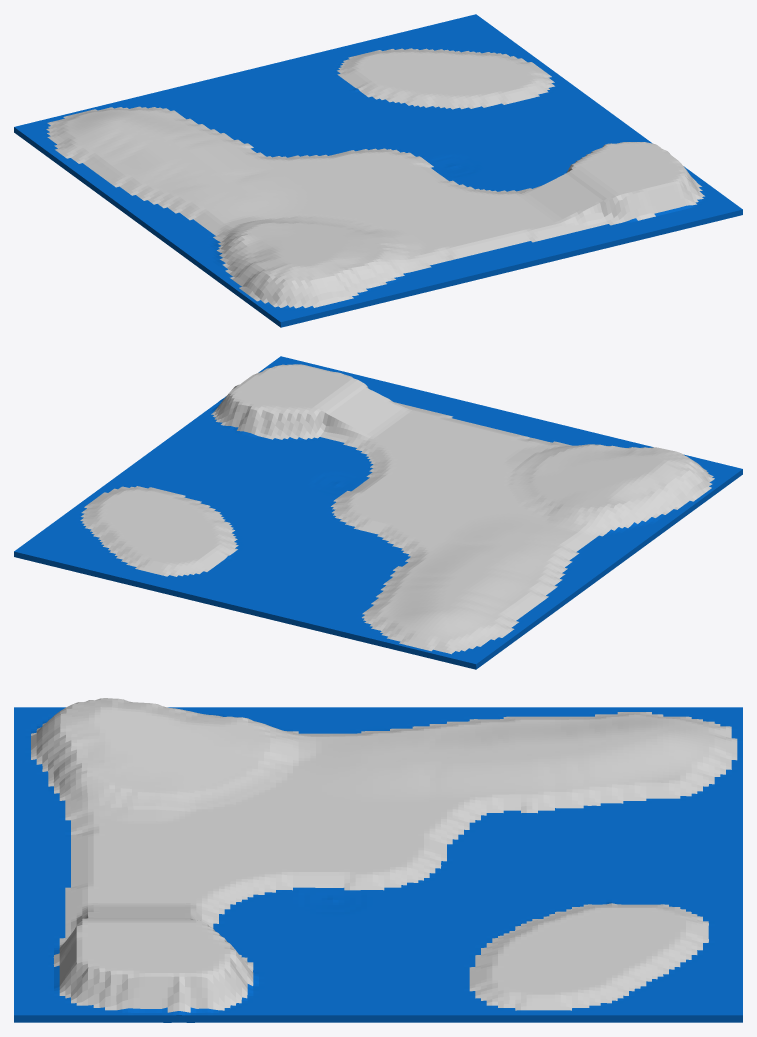
The model's file is Map.fbx.
3 renders of one model, top to bottom at view 1: azimuth 30°, elevation 25°; view 2: azimuth 150°, elevation 25°; view 3: azimuth 270°, elevation 25°, orthographic. The views are drawn at different scales.
Visible parts, largest first — view 1: WorldPlane; view 2: WorldPlane; view 3: WorldPlane.
Part boxes in pixels (x1,y1,x2,y2): WorldPlane: (14,14,742,327); WorldPlane: (14,356,742,669); WorldPlane: (14,698,742,1022).
Size of the model in its own units: 1600 by 88.45 by 1600.
